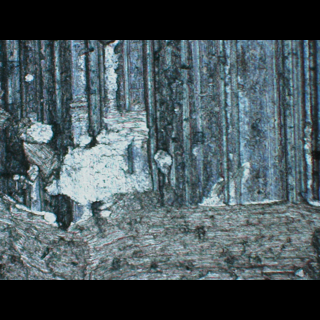d: (0, 191, 318, 280), (0, 75, 183, 205)
